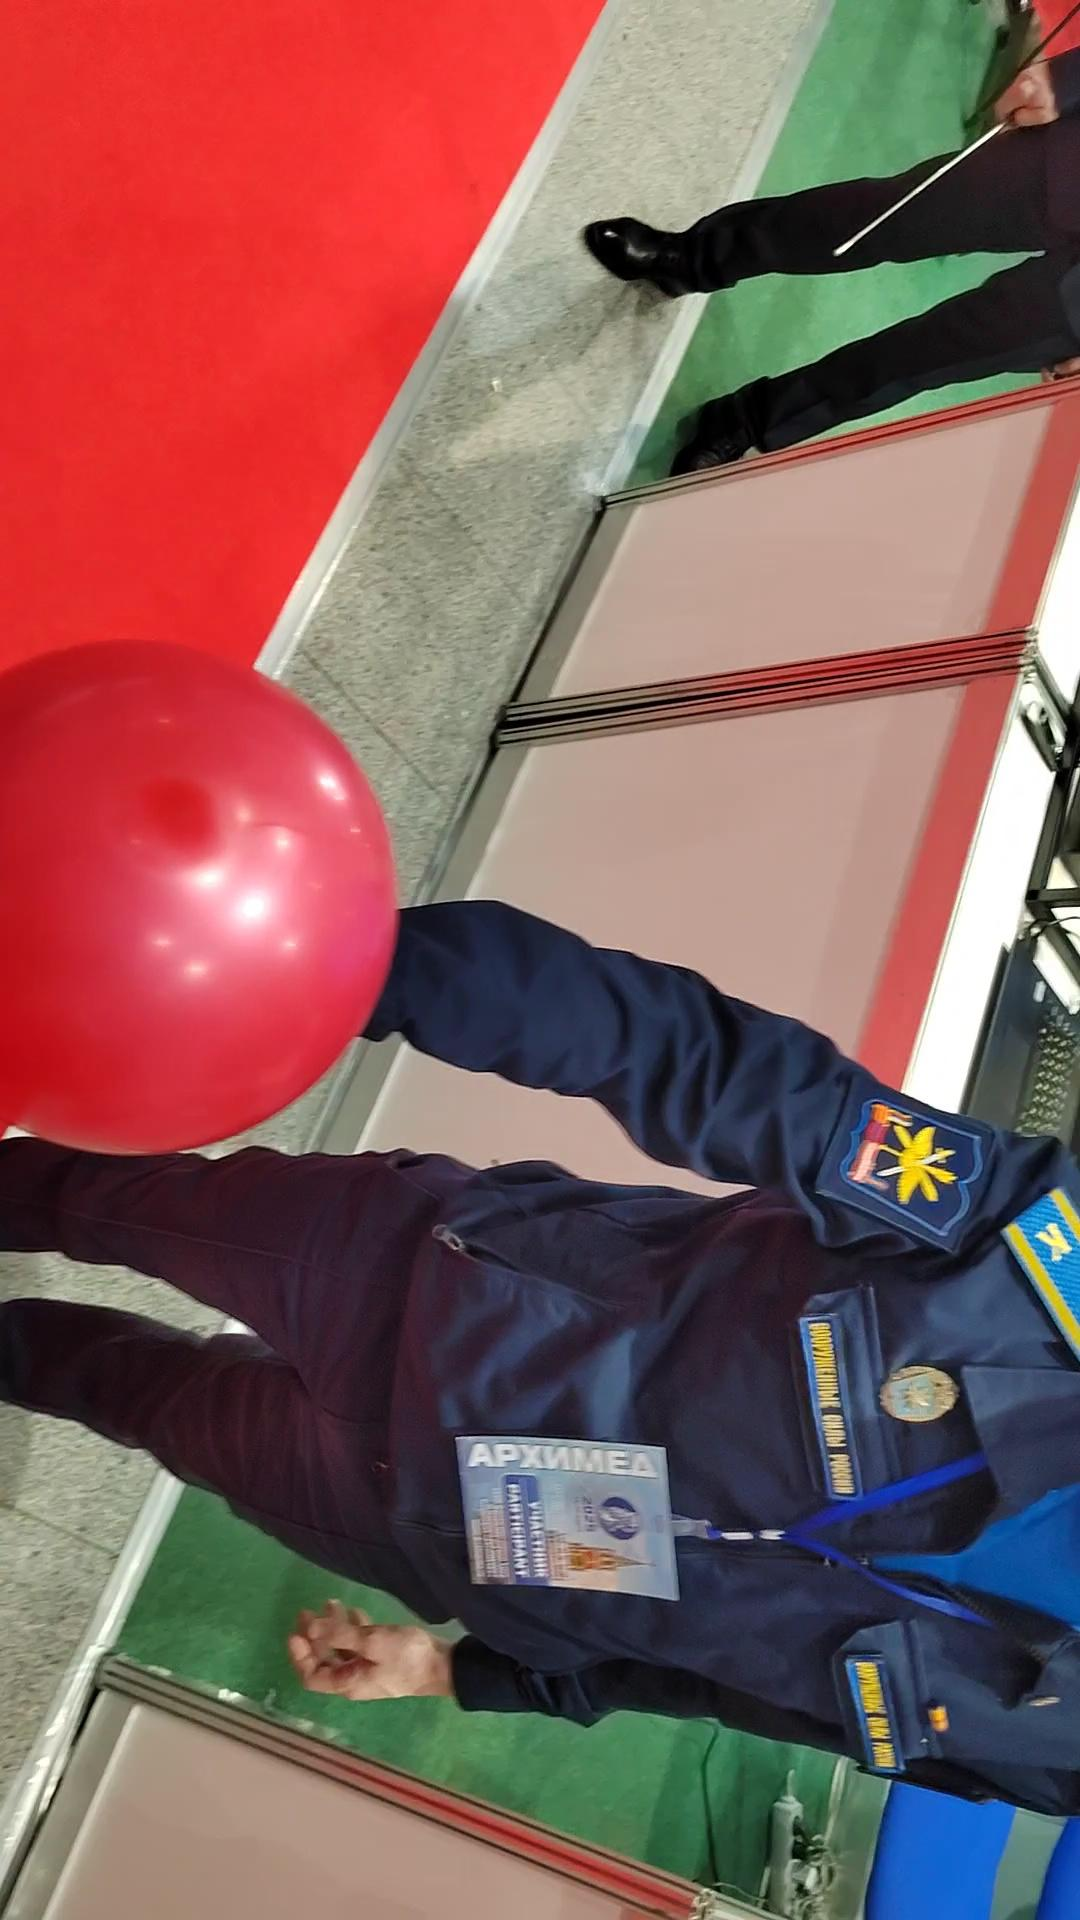red: (0, 636, 406, 1164)
